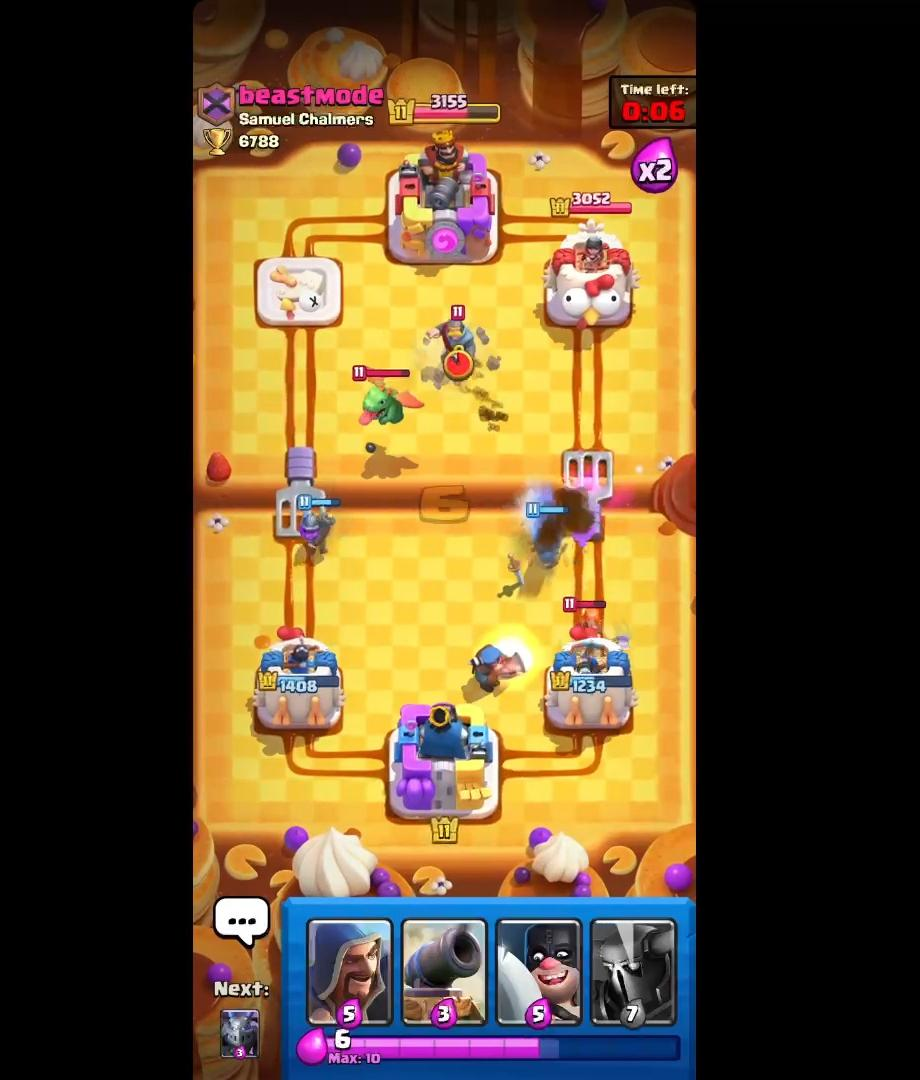Baby Dragon: (348, 363, 421, 435)
Valkyrie: (556, 594, 626, 669)
